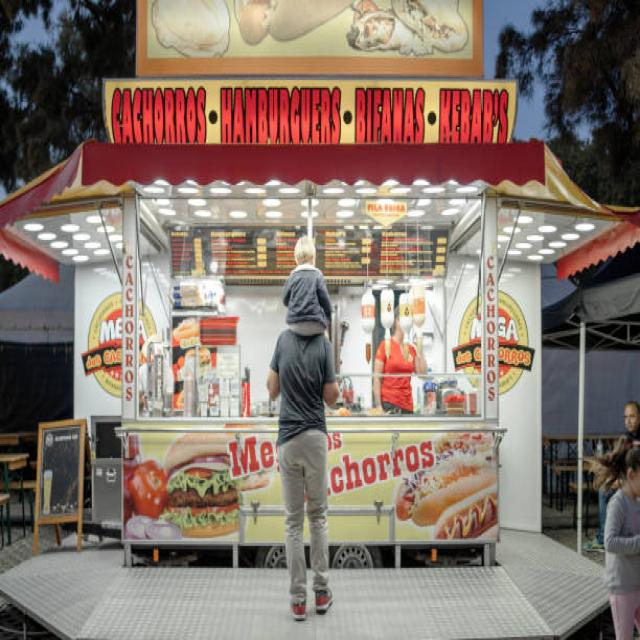Emperan: (9, 17, 631, 624)
